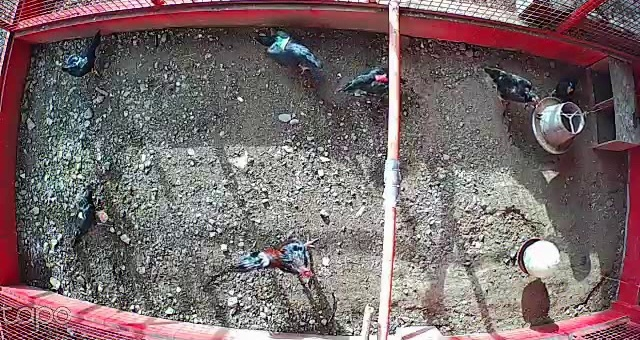Chicken: (247, 23, 324, 79), (333, 68, 415, 105), (480, 61, 540, 109), (60, 31, 112, 83), (63, 187, 108, 247), (545, 70, 587, 105)
Rooster: (202, 233, 328, 293)
Saddle_Color_Red: (375, 72, 387, 81)
Saddle_Color_Yellow: (78, 212, 87, 221)
Saddle_Color_YellowGreen: (275, 37, 290, 51)
